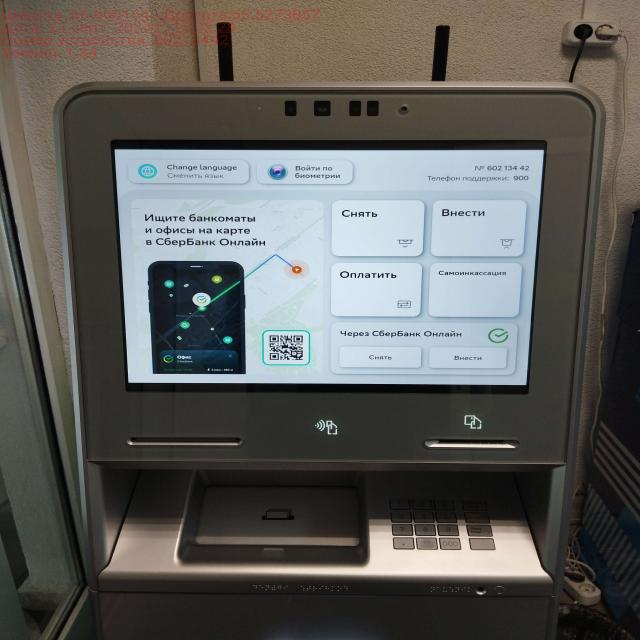bank: (56, 88, 600, 640)
